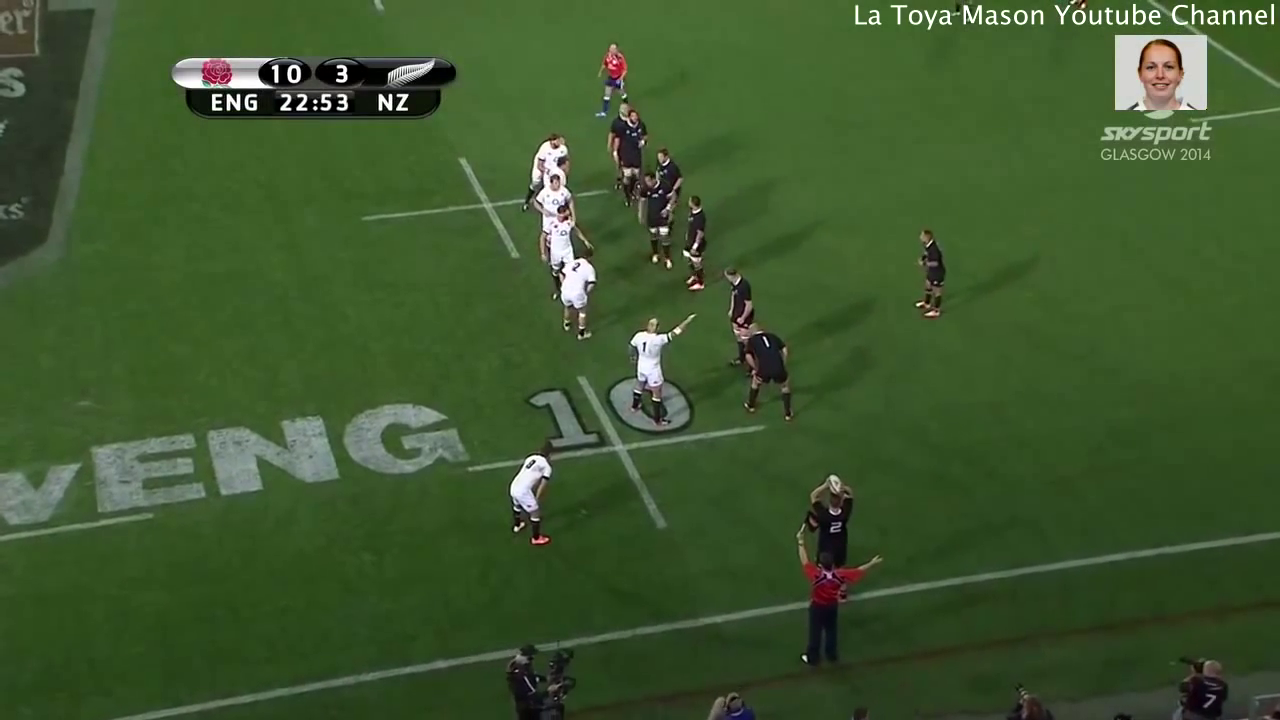10_metre: (449, 364, 779, 539), (342, 148, 623, 277)
ball: (820, 456, 853, 506)
player: (787, 516, 890, 664), (615, 307, 705, 436), (732, 312, 809, 435), (797, 470, 856, 601), (501, 436, 563, 553), (672, 183, 717, 306), (718, 258, 764, 376), (910, 220, 956, 330), (540, 201, 586, 303), (635, 167, 677, 275), (530, 175, 582, 262), (558, 246, 600, 350), (520, 127, 573, 209), (592, 39, 637, 124), (612, 109, 646, 216), (651, 144, 692, 205), (604, 93, 636, 158), (539, 149, 574, 184)
